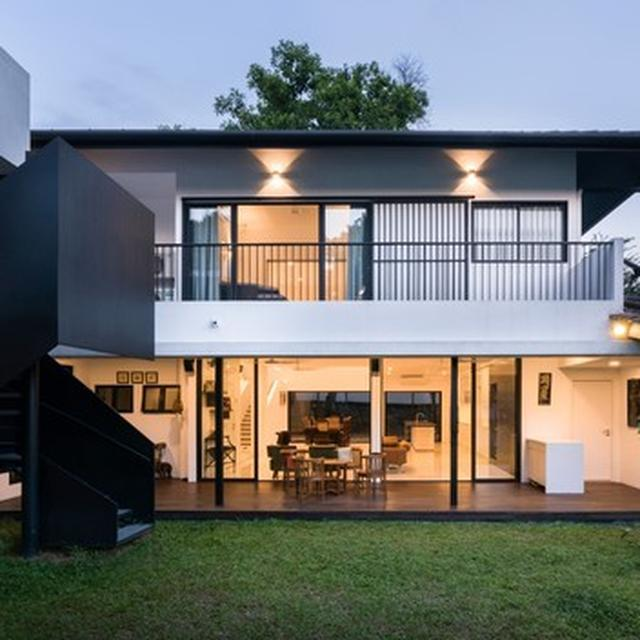building: (2, 128, 640, 514)
